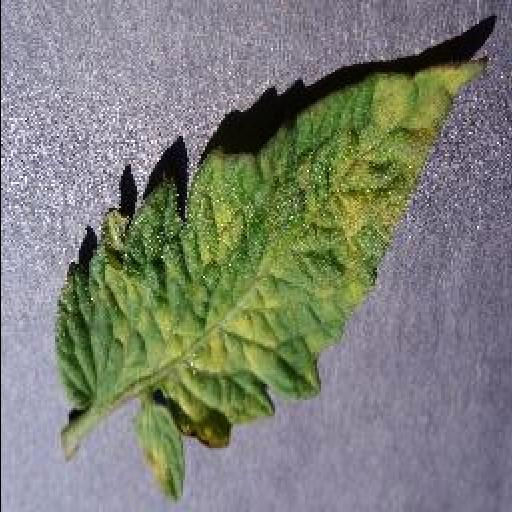disease_tomato: (54, 56, 492, 504)
